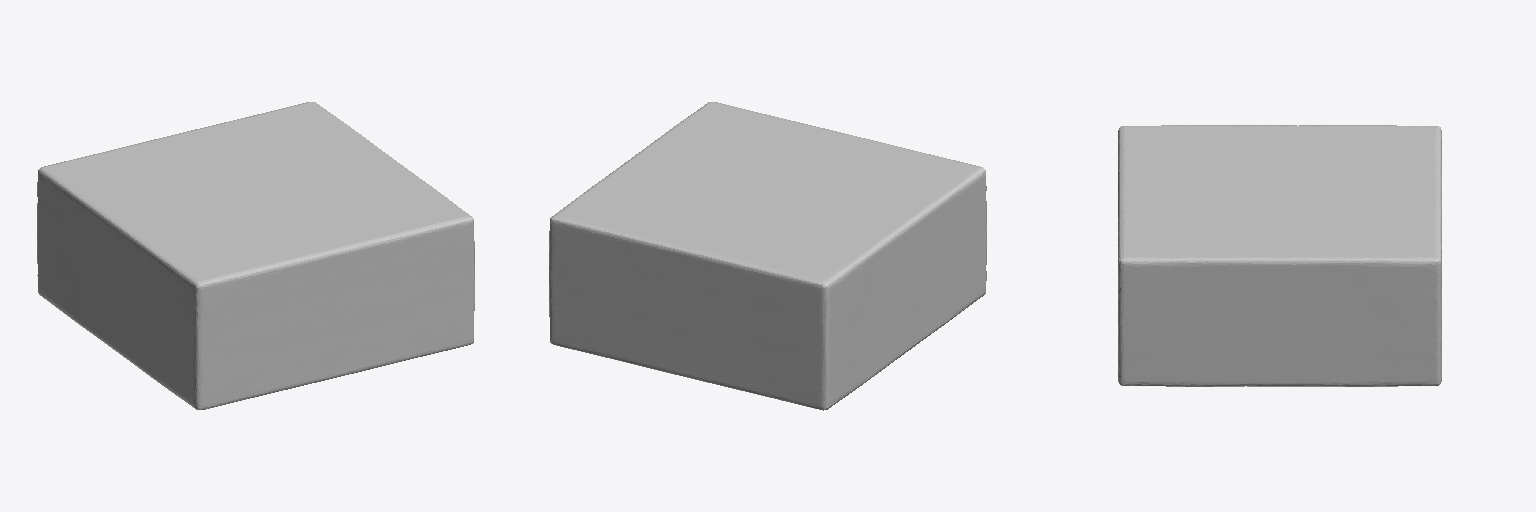
3 renders of one model, left to right at view 1: azimuth 30°, elevation 25°; view 2: azimuth 150°, elevation 25°; view 3: azimuth 270°, elevation 25°, orthographic.
Visible parts, largest first — view 1: 具有沙漠色的平_[number redacted]_texture; view 2: 具有沙漠色的平_[number redacted]_texture; view 3: 具有沙漠色的平_[number redacted]_texture.
Part boxes in pixels (bbox=[...]): 具有沙漠色的平_[number redacted]_texture: bbox=[37, 102, 474, 409]; 具有沙漠色的平_[number redacted]_texture: bbox=[549, 102, 986, 410]; 具有沙漠色的平_[number redacted]_texture: bbox=[1118, 125, 1441, 386].
Bounding box in the file's own units: 1.99 × 0.8777 × 2.